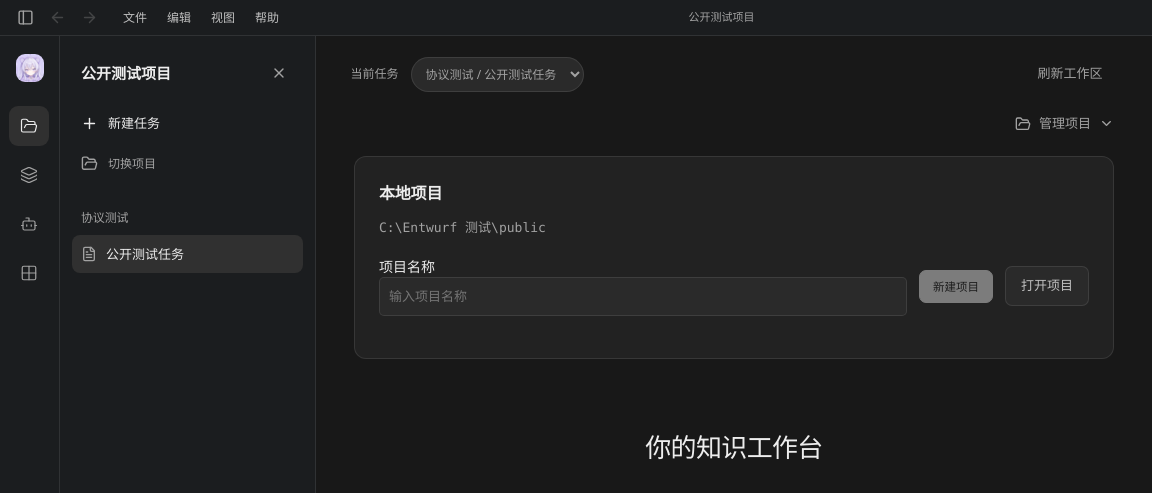
Test: requires a review note and sends one explicit review item with its base version
Expected: the dropdown labelled "当前任务" is shown, x1=411 y1=56 x2=584 y2=92
Click the button named "结果" at point(29, 273), box x1=9 y1=253 x2=49 y2=293
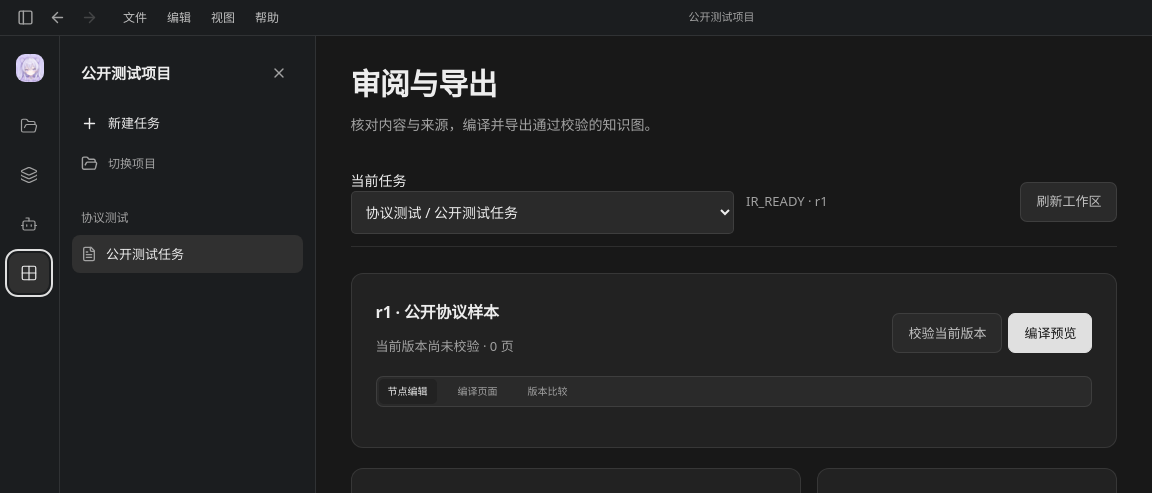
Click the button "刷新工作区" at point(1069, 202), box x1=1020 y1=182 x2=1117 y2=222
(page scrolled)
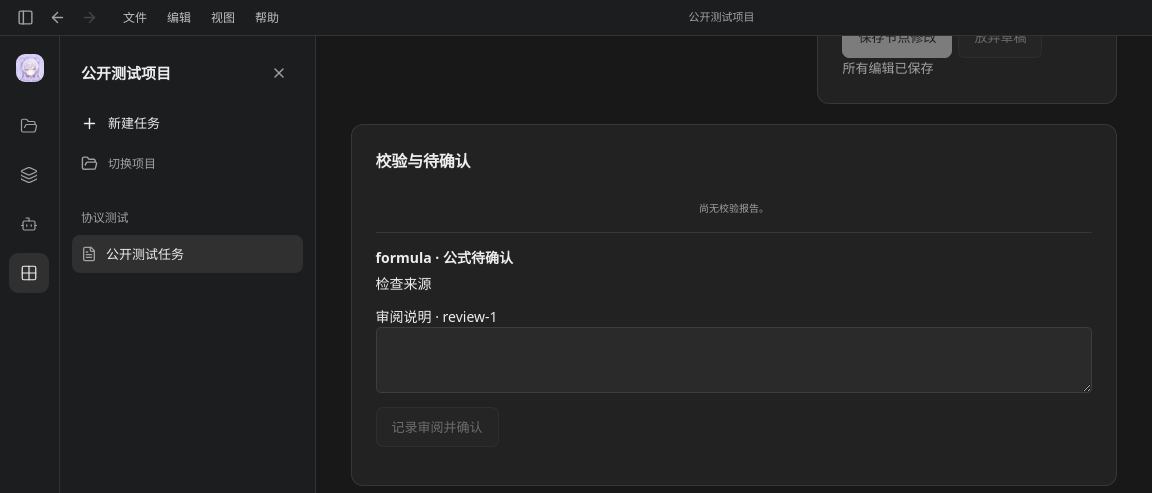
Expected: the button "记录审阅并确认" is disabled, x1=376 y1=408 x2=498 y2=448
Type "已对照原件" into the text box labelled "审阅说明 · review-1" at point(734, 360), box x1=376 y1=328 x2=1092 y2=394
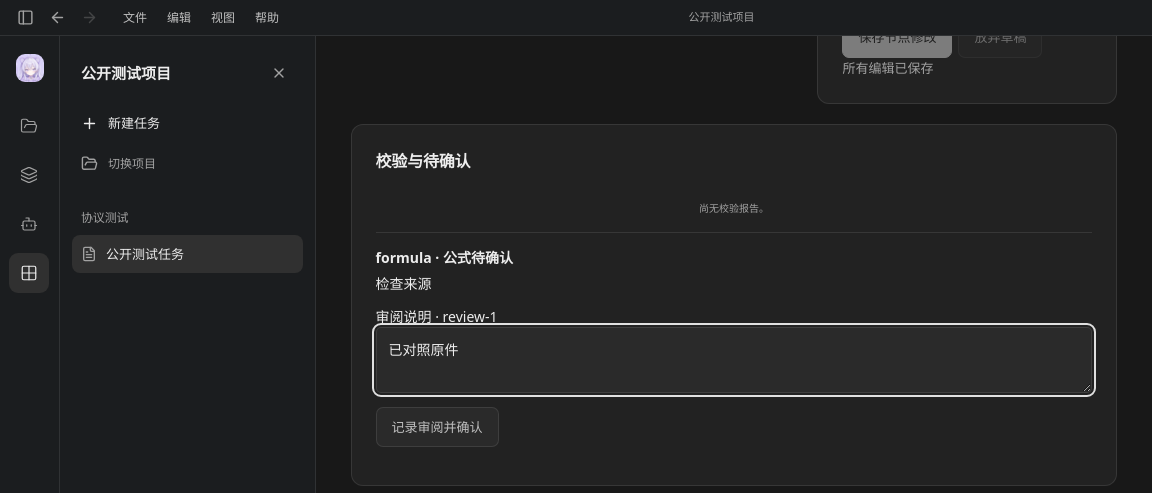
Click the button "记录审阅并确认" at point(437, 428), box x1=376 y1=408 x2=498 y2=448
(page scrolled)
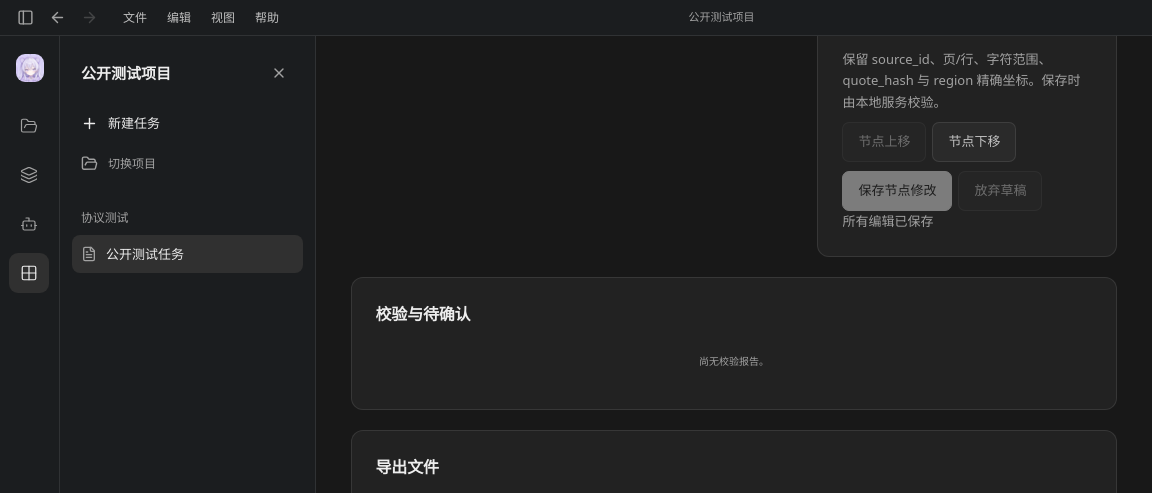
Expected: the text "公式待确认" is gone
